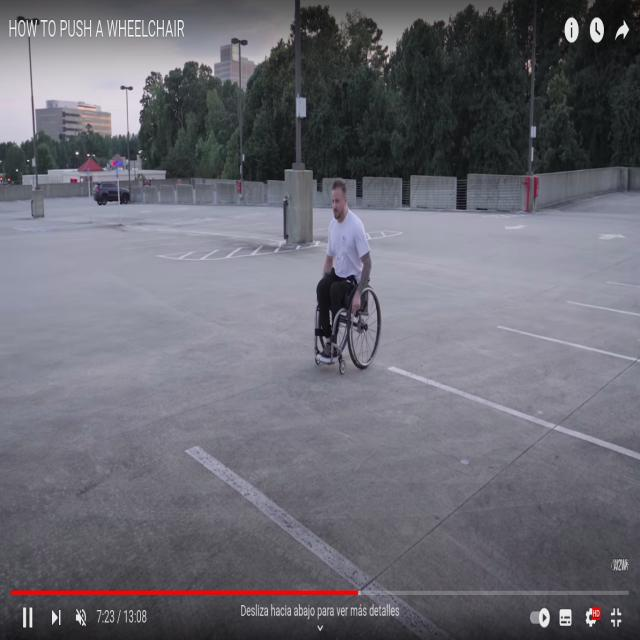wheelchairs: (315, 265, 386, 368)
